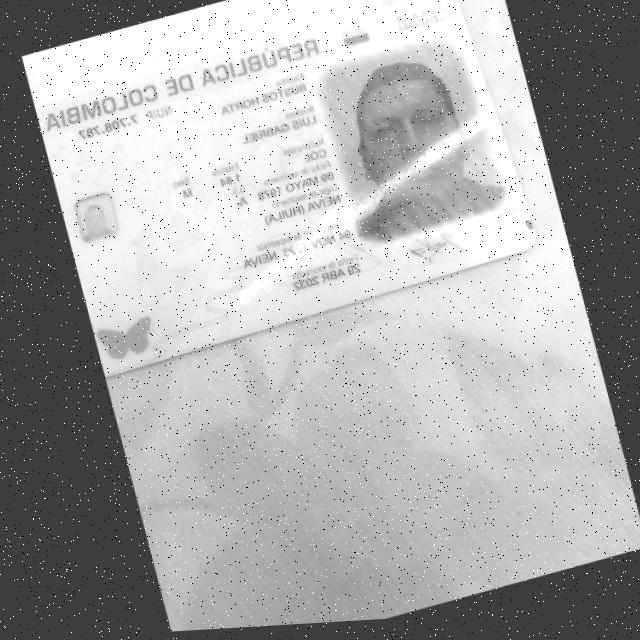card: (37, 0, 534, 375)
